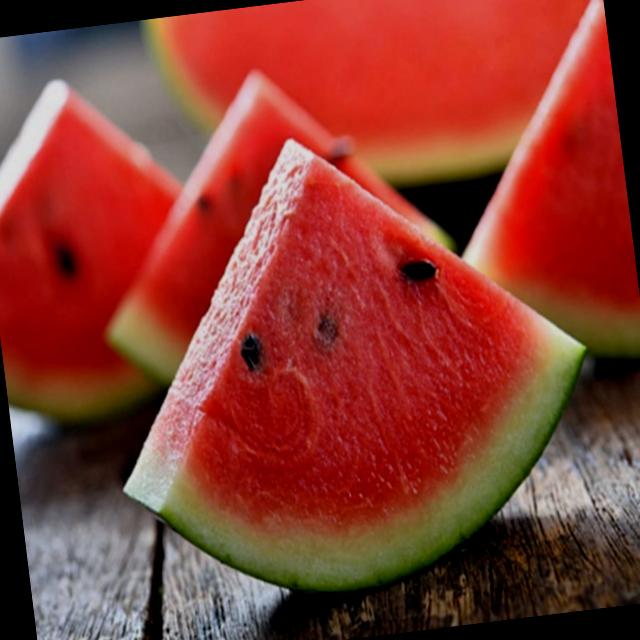dua hau: (125, 141, 583, 590), (108, 72, 443, 381), (464, 0, 640, 356), (0, 80, 181, 418)
